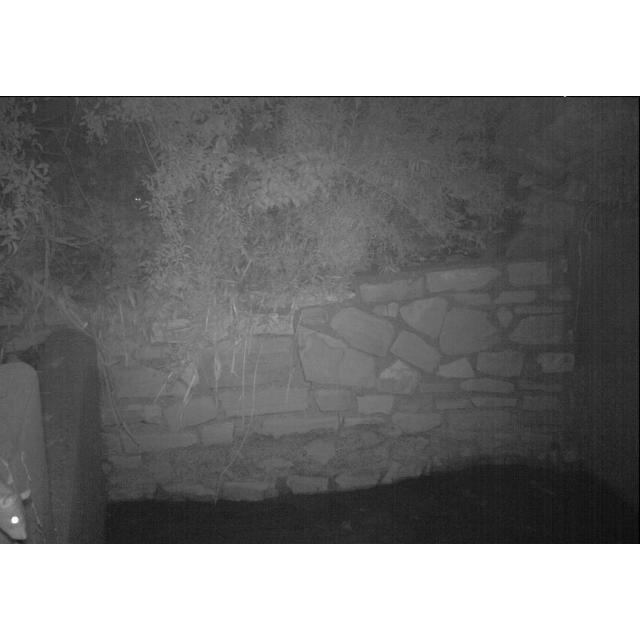animals: (1, 471, 32, 545)
